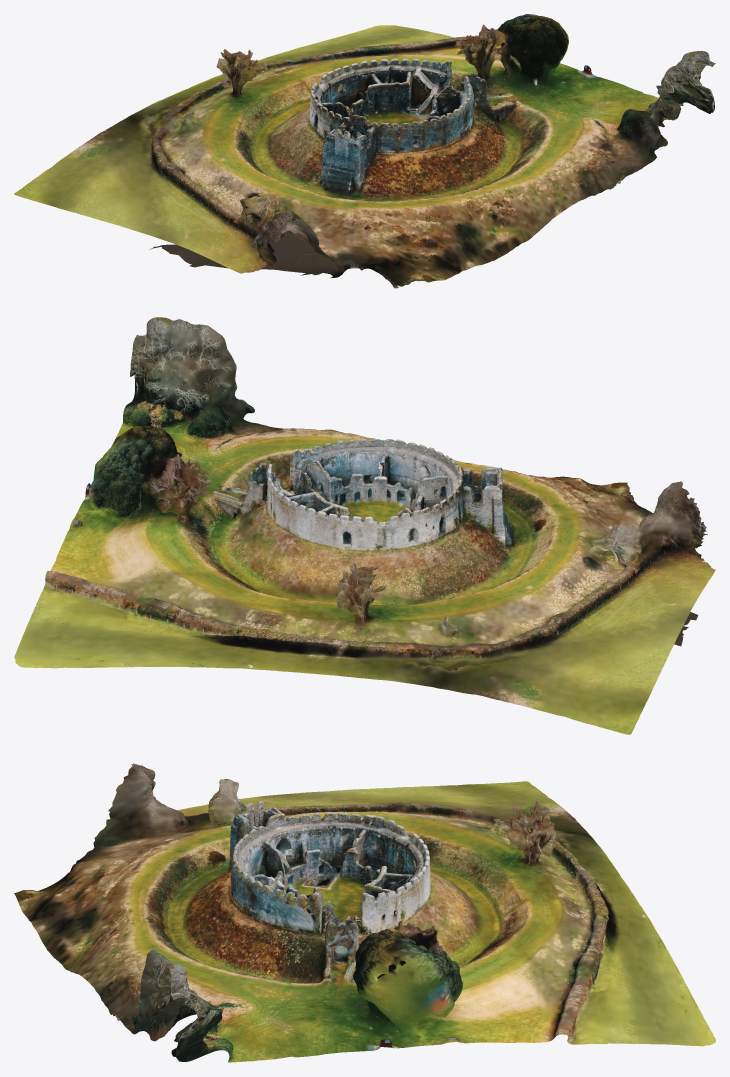
Rendered from sf-restormel-castle-e5823e.glb.
3 renders of one model, top to bottom at view 1: azimuth 30°, elevation 25°; view 2: azimuth 150°, elevation 25°; view 3: azimuth 270°, elevation 25°, orthographic. The views are drawn at different scales.
Visible parts, largest first — view 1: Model_material1_0, Model_material0_0; view 2: Model_material1_0, Model_material0_0; view 3: Model_material1_0, Model_material0_0.
Part boxes in pixels (left/top/right/bottom): Model_material1_0: left=14, top=16, right=715, bottom=286; Model_material0_0: left=86, top=14, right=709, bottom=288; Model_material1_0: left=46, top=325, right=715, bottom=734; Model_material0_0: left=14, top=317, right=698, bottom=701; Model_material1_0: left=14, top=763, right=581, bottom=1062; Model_material0_0: left=122, top=764, right=715, bottom=1062.
Size of the model in its own units: 50.84 by 10.3 by 44.34.
Materials: 2 (2 with a texture image).
